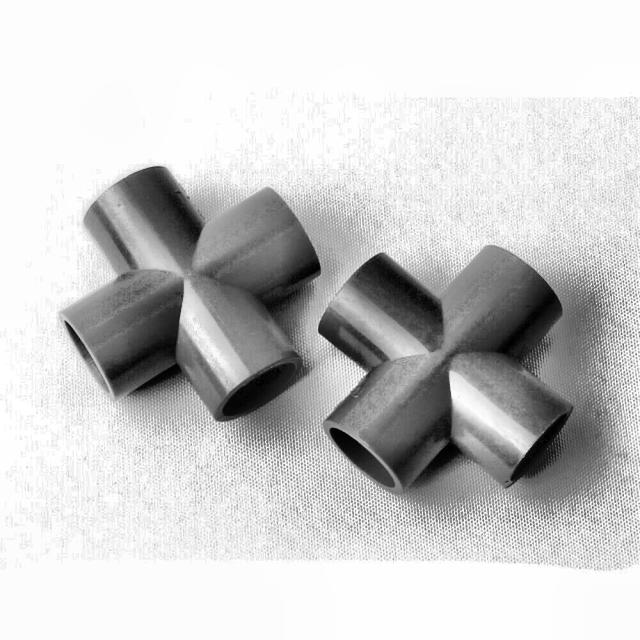EQUALCROSS: (58, 166, 323, 424), (316, 246, 573, 494)
